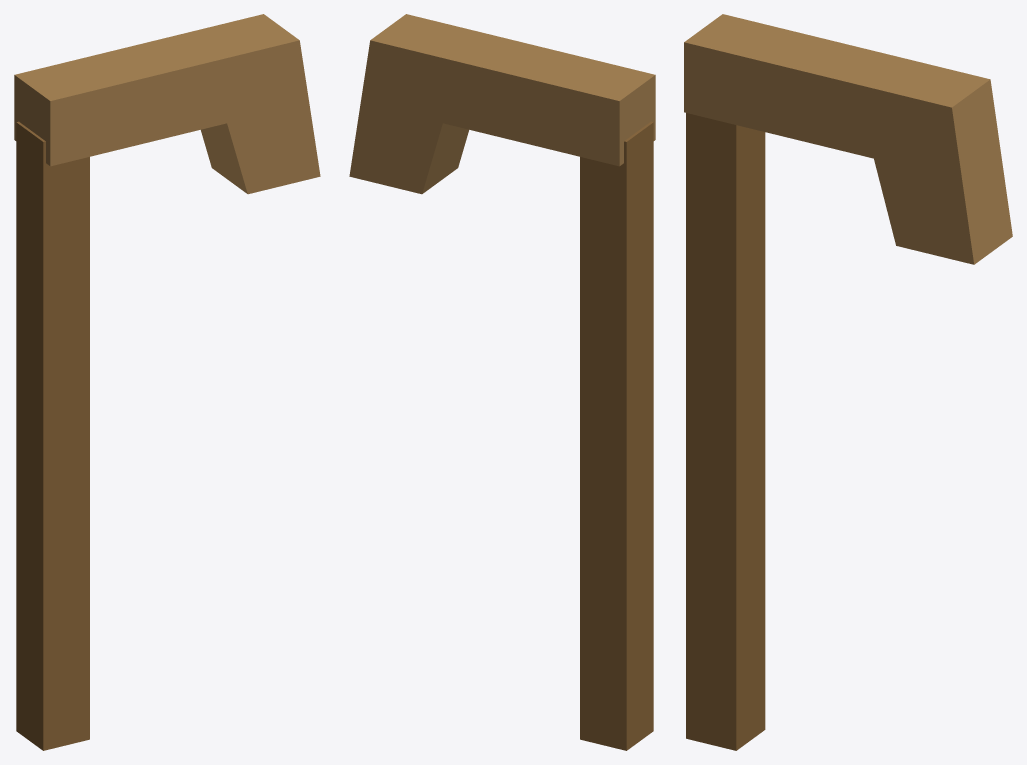
The model's file is hoe_wood.fbx.
The picture shows the model from 3 angles, left to right: view 1: azimuth 30°, elevation 25°; view 2: azimuth 150°, elevation 25°; view 3: azimuth 330°, elevation 25°; orthographic projection. The views are drawn at different scales.
Visible parts, largest first — view 1: hoe_wood; view 2: hoe_wood; view 3: hoe_wood.
Boxes of the visible parts, x1,y1,x2,y2 form: hoe_wood: [14, 14, 320, 750]; hoe_wood: [349, 14, 655, 750]; hoe_wood: [684, 14, 1012, 750].
Bounding box in the file's own units: 0.7875 × 1.8 × 0.18.
